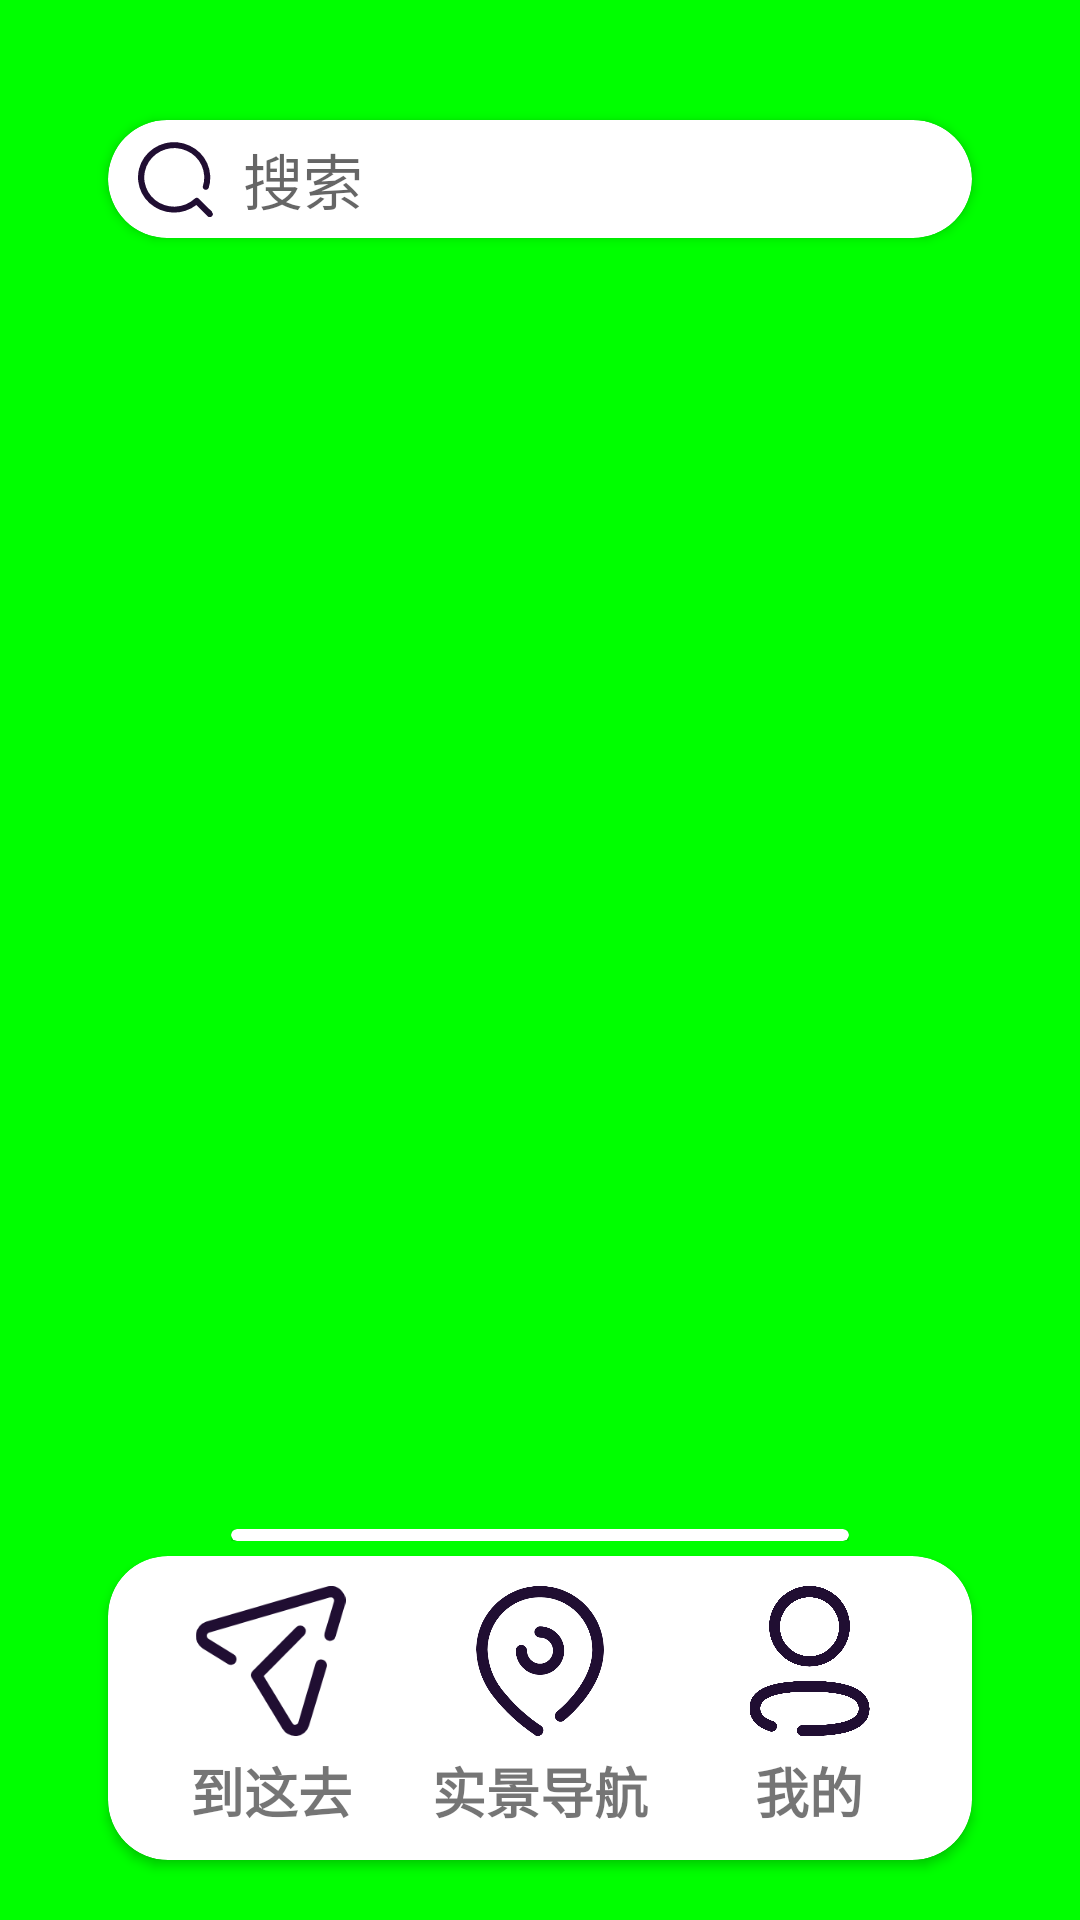

Named icons in this screenshot (1080 × 1920) and their centers, (x,y):
guidance: (271,1661)
location: (540,1661)
search: (175,179)
